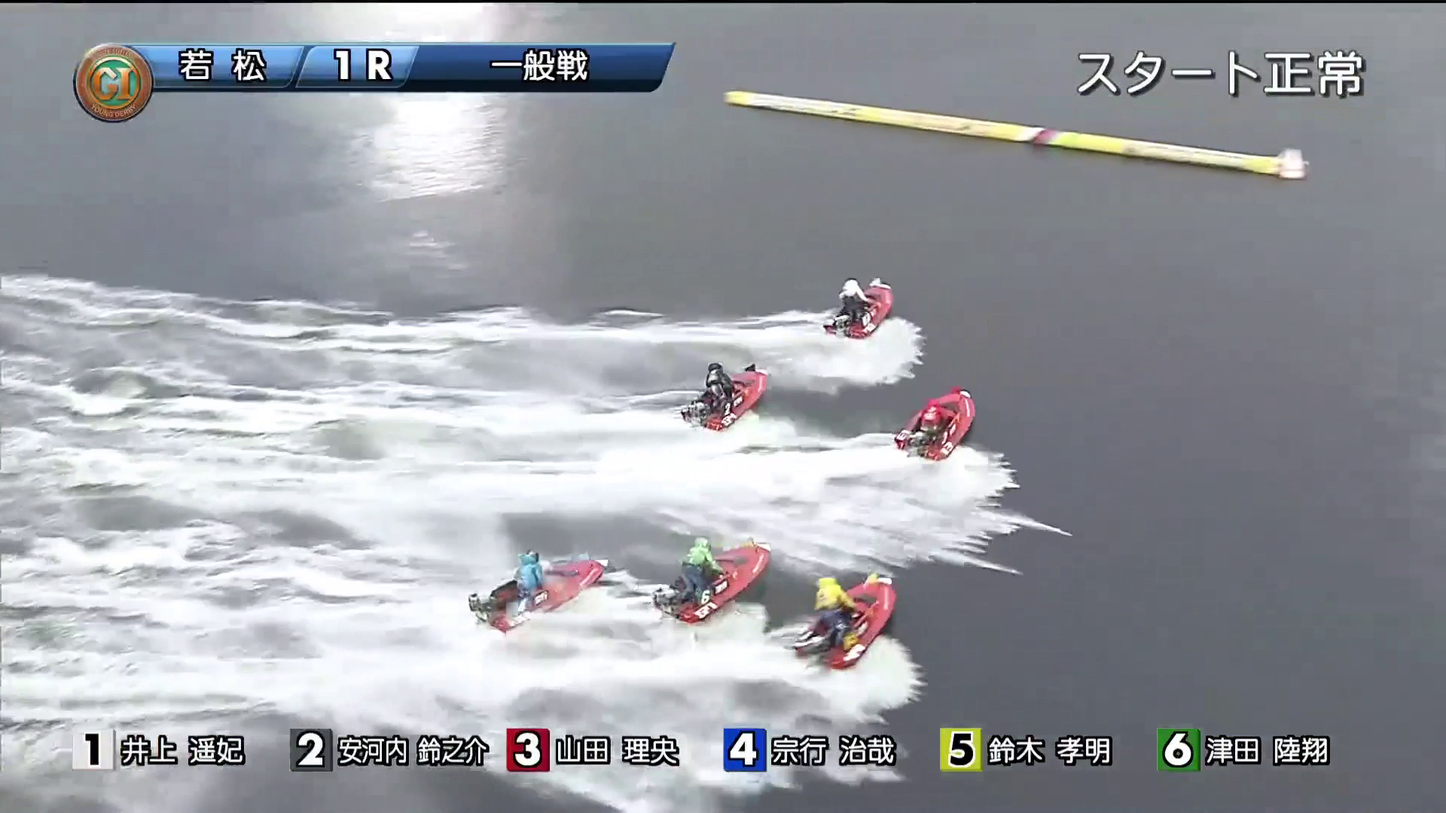１号艇: (814, 279, 945, 333)
２号艇: (661, 354, 790, 414)
３号艇: (891, 402, 1028, 449)
４号艇: (634, 542, 768, 607)
５号艇: (448, 555, 572, 610)
６号艇: (799, 578, 898, 635)
